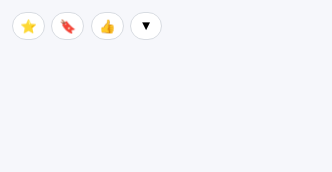
ReactionPicker › opens the complete reaction menu
This screenshot has width=332, height=172.
expect the button "🔥" is not shown: met
Click the button named "Toggle reaction menu": (146, 26) [130,12,162,40]
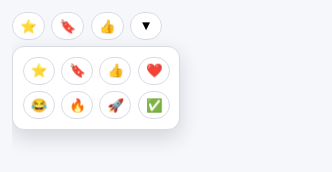
expect the button "🔥" is shown: met, box [61,91,93,119]
expect the button "🚀" is shown: met, box [99,91,131,119]
